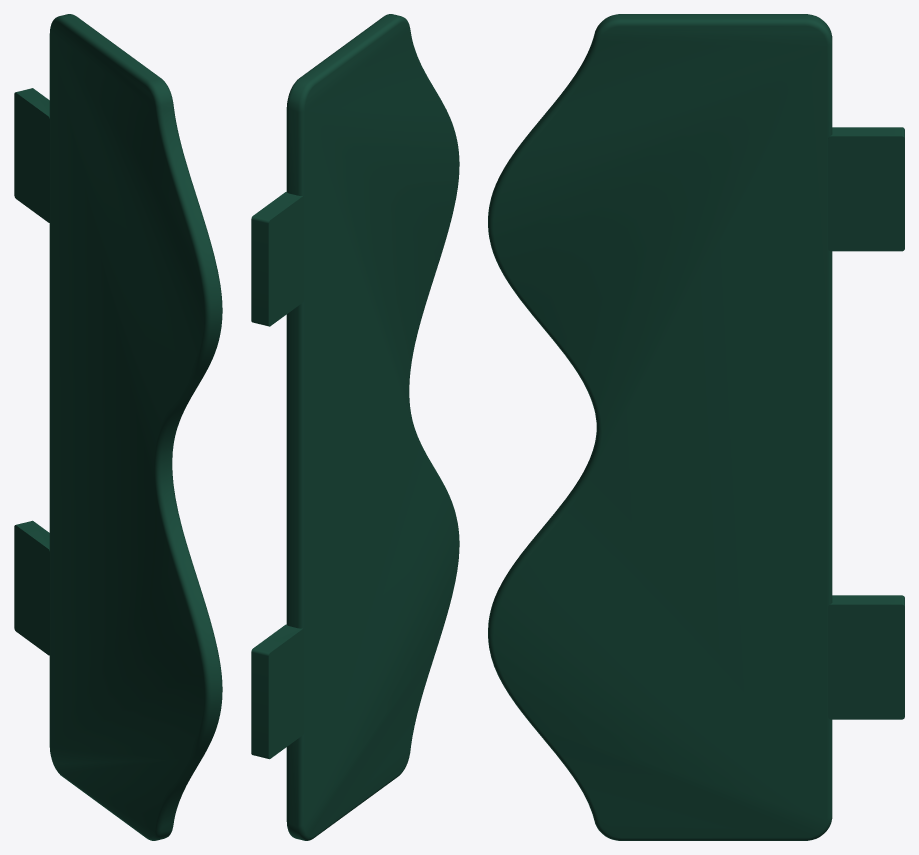
The picture shows the model from 3 angles, left to right: view 1: azimuth 30°, elevation 25°; view 2: azimuth 150°, elevation 25°; view 3: azimuth 270°, elevation 25°; orthographic projection. The views are drawn at different scales.
Visible parts, largest first — view 1: G17_PineGreen; view 2: G17_PineGreen; view 3: G17_PineGreen.
Boxes of the visible parts, x1,y1,x2,y2 form: G17_PineGreen: (14, 14, 222, 840); G17_PineGreen: (251, 14, 459, 840); G17_PineGreen: (488, 14, 904, 840).
Bounding box in the file's own units: 2.4 × 100 × 46.
